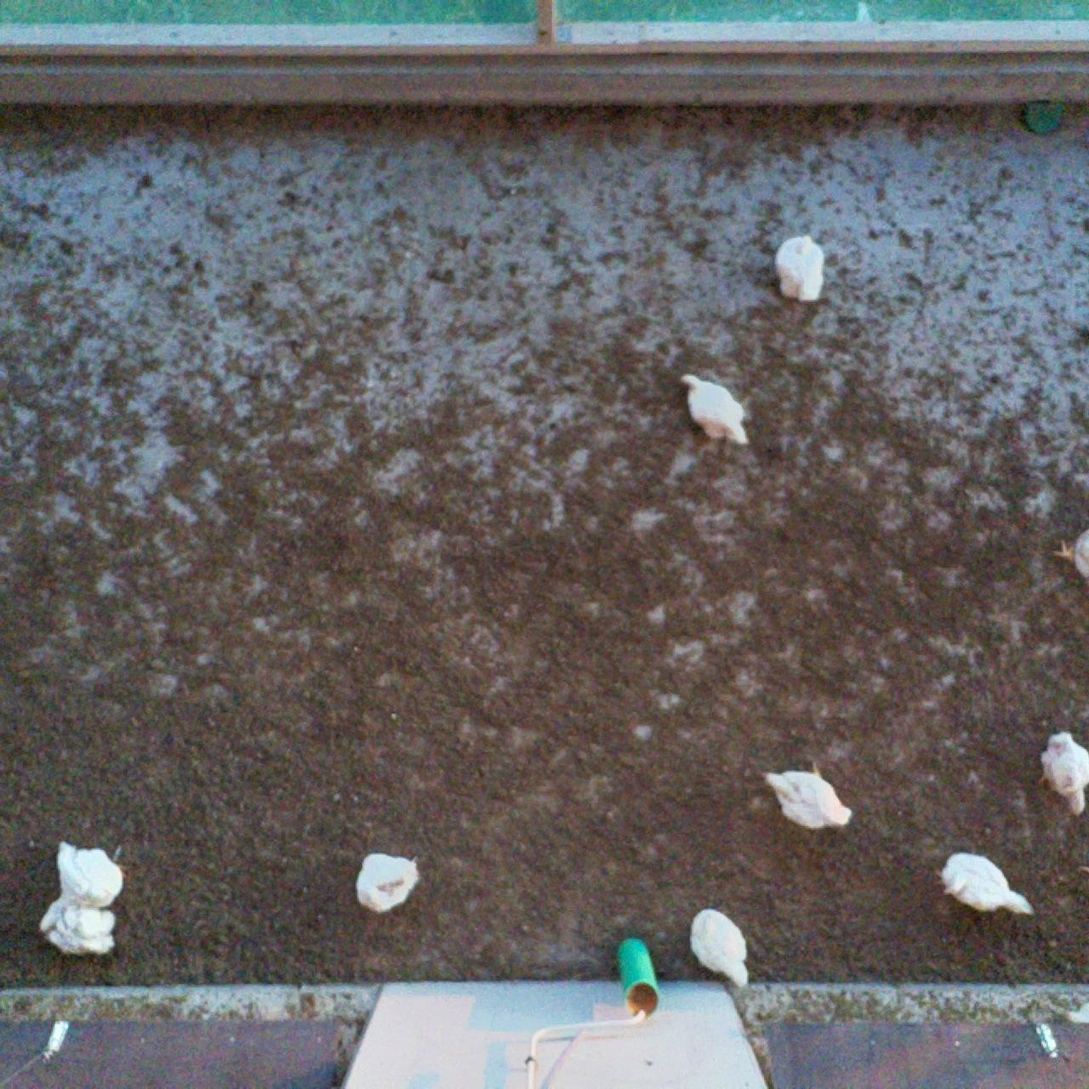chicken: (930, 846, 1038, 925), (758, 756, 858, 832), (675, 369, 752, 451), (682, 905, 757, 989), (348, 847, 425, 918), (51, 835, 126, 906), (1035, 729, 1089, 820), (767, 230, 828, 309), (45, 904, 123, 962), (1050, 518, 1089, 583), (36, 892, 79, 933)
